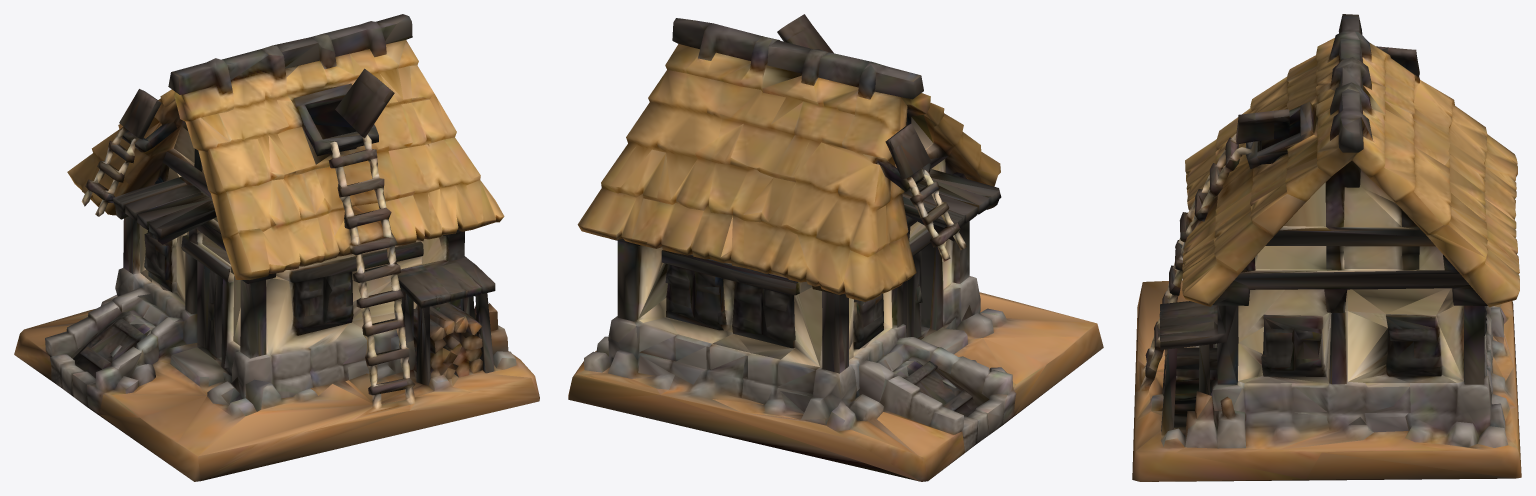
Rendered from hideout_t2.glb.
3 renders of one model, left to right at view 1: azimuth 30°, elevation 25°; view 2: azimuth 150°, elevation 25°; view 3: azimuth 270°, elevation 25°, orthographic. The views are drawn at different scales.
Visible parts, largest first — view 1: tripo_node_fa4a99ef-5b08-4cb2-bfe1-149a6255b926; view 2: tripo_node_fa4a99ef-5b08-4cb2-bfe1-149a6255b926; view 3: tripo_node_fa4a99ef-5b08-4cb2-bfe1-149a6255b926.
Part boxes in pixels (bbox=[...]): tripo_node_fa4a99ef-5b08-4cb2-bfe1-149a6255b926: bbox=[14, 14, 539, 481]; tripo_node_fa4a99ef-5b08-4cb2-bfe1-149a6255b926: bbox=[568, 14, 1103, 481]; tripo_node_fa4a99ef-5b08-4cb2-bfe1-149a6255b926: bbox=[1132, 14, 1521, 481].
Size of the model in its own units: 0.9778 by 0.8476 by 0.89.
Materials: 1 (1 with a texture image).
